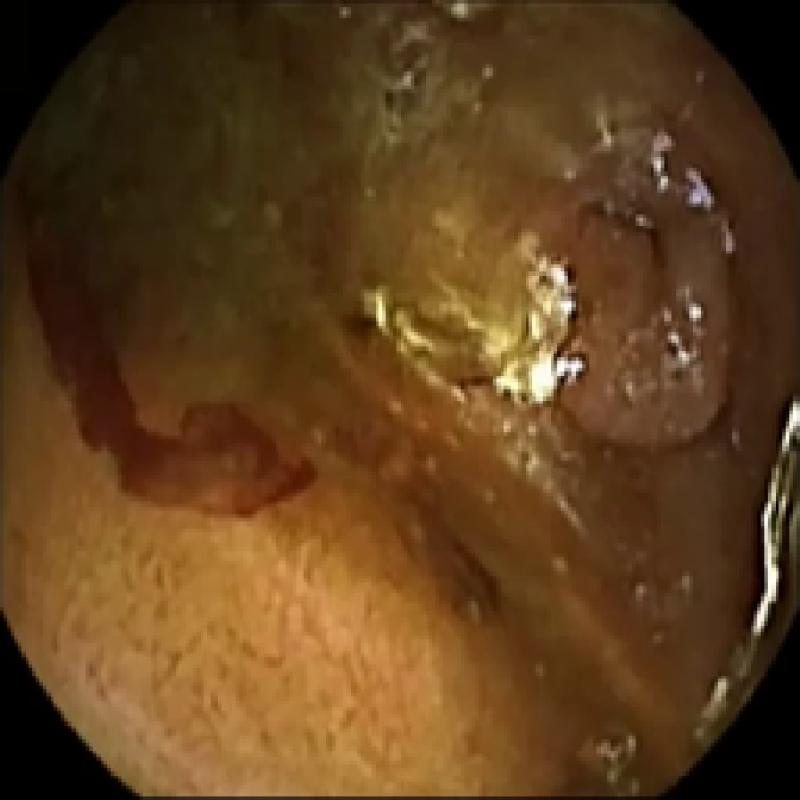bleeding: (25, 243, 316, 511), (411, 500, 507, 628)
